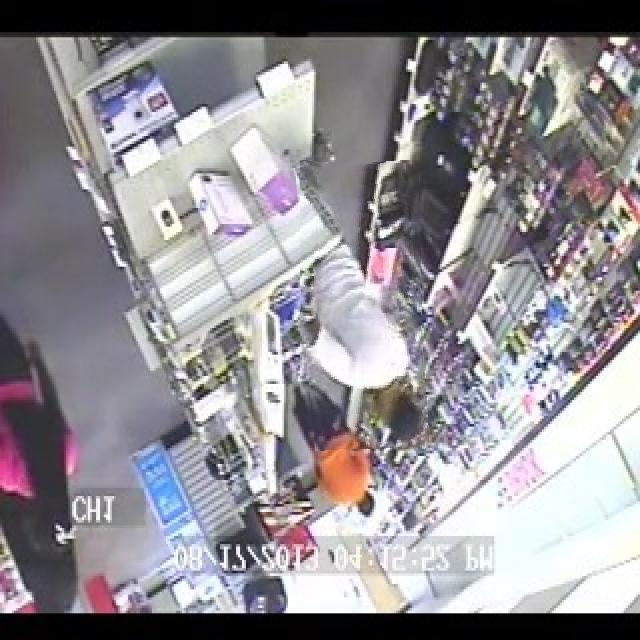Normal: (300, 161, 425, 449)
